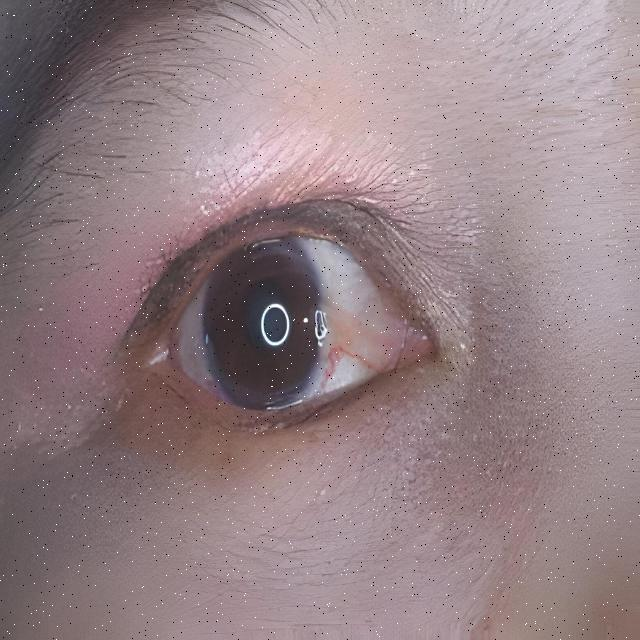Pterygium: (283, 278, 426, 398)
